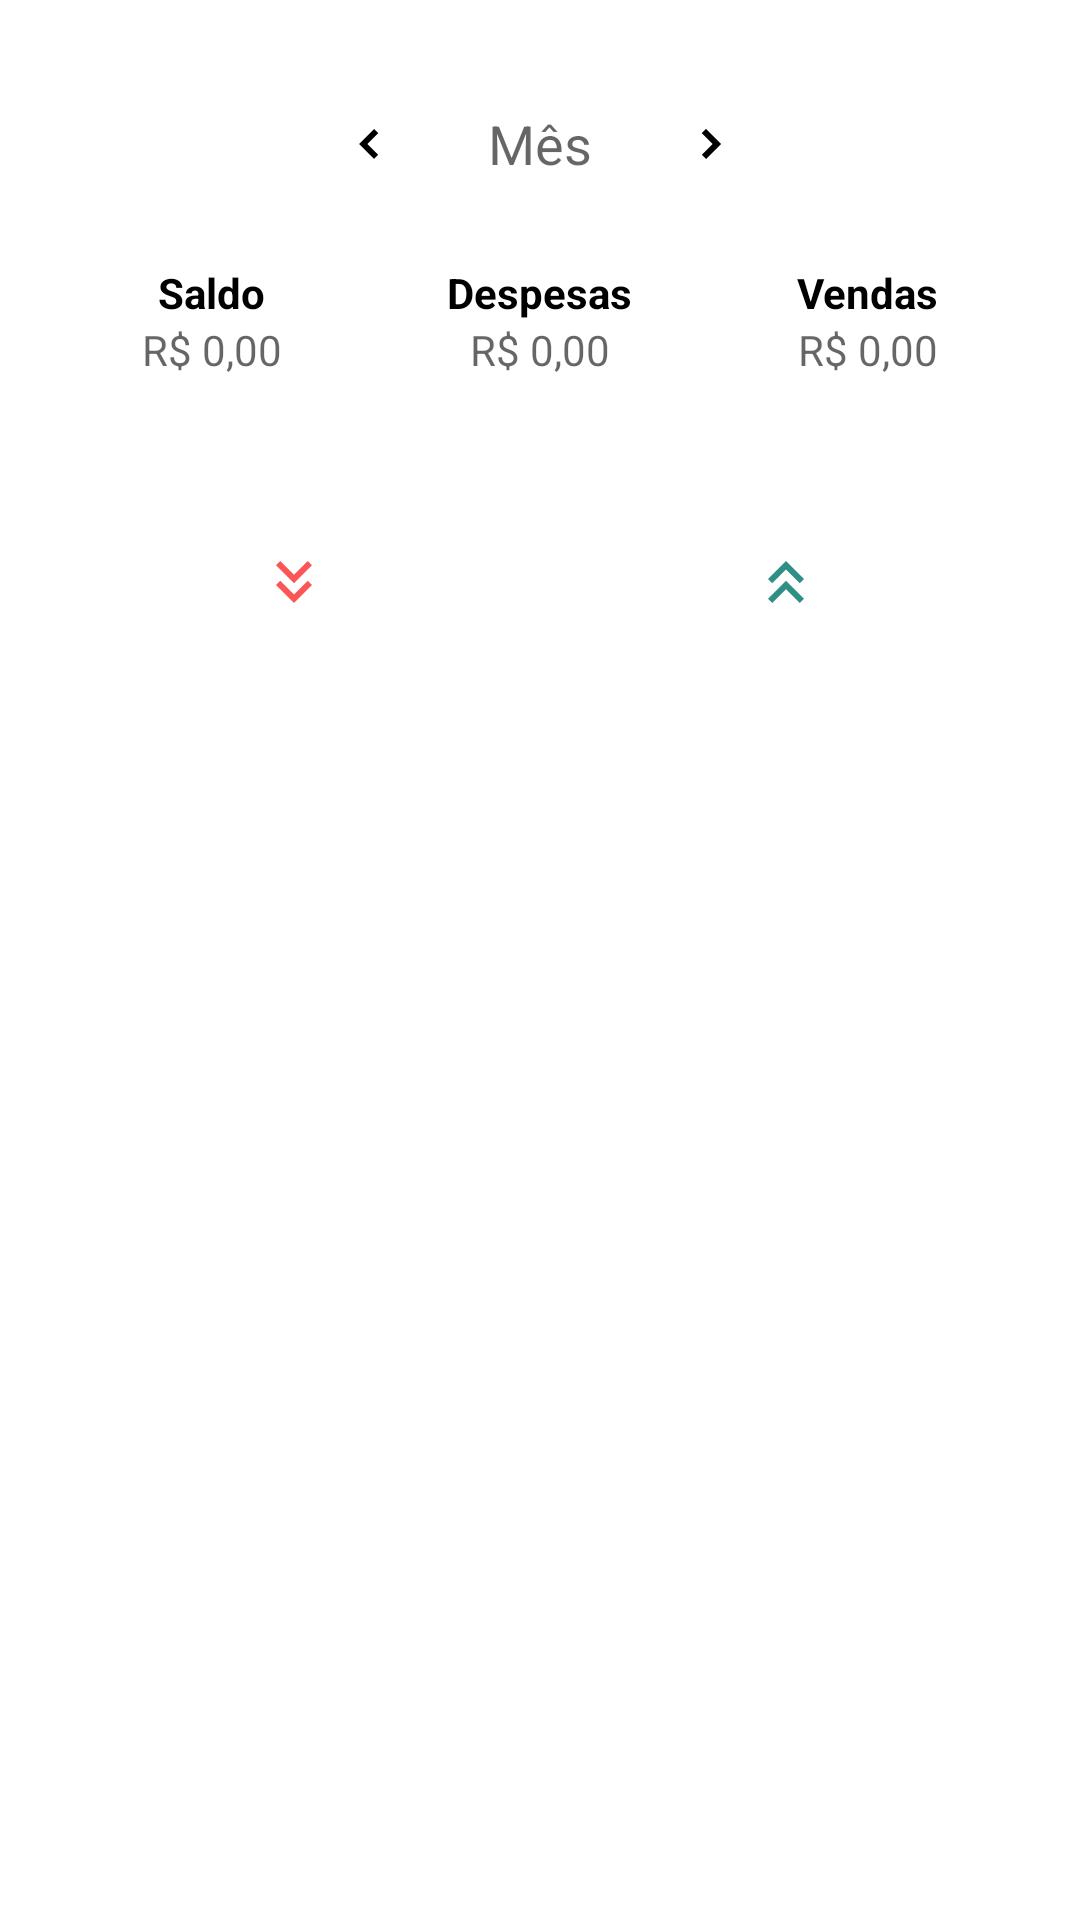

Named icons in this screenshot (1080*1920) and their bounding boxes, rect(x1, y1, x2, y2):
Expense: rect(276, 561, 312, 603)
Income: rect(768, 561, 804, 603)
Next Month: rect(702, 129, 721, 159)
Previous Month: rect(359, 129, 378, 159)
